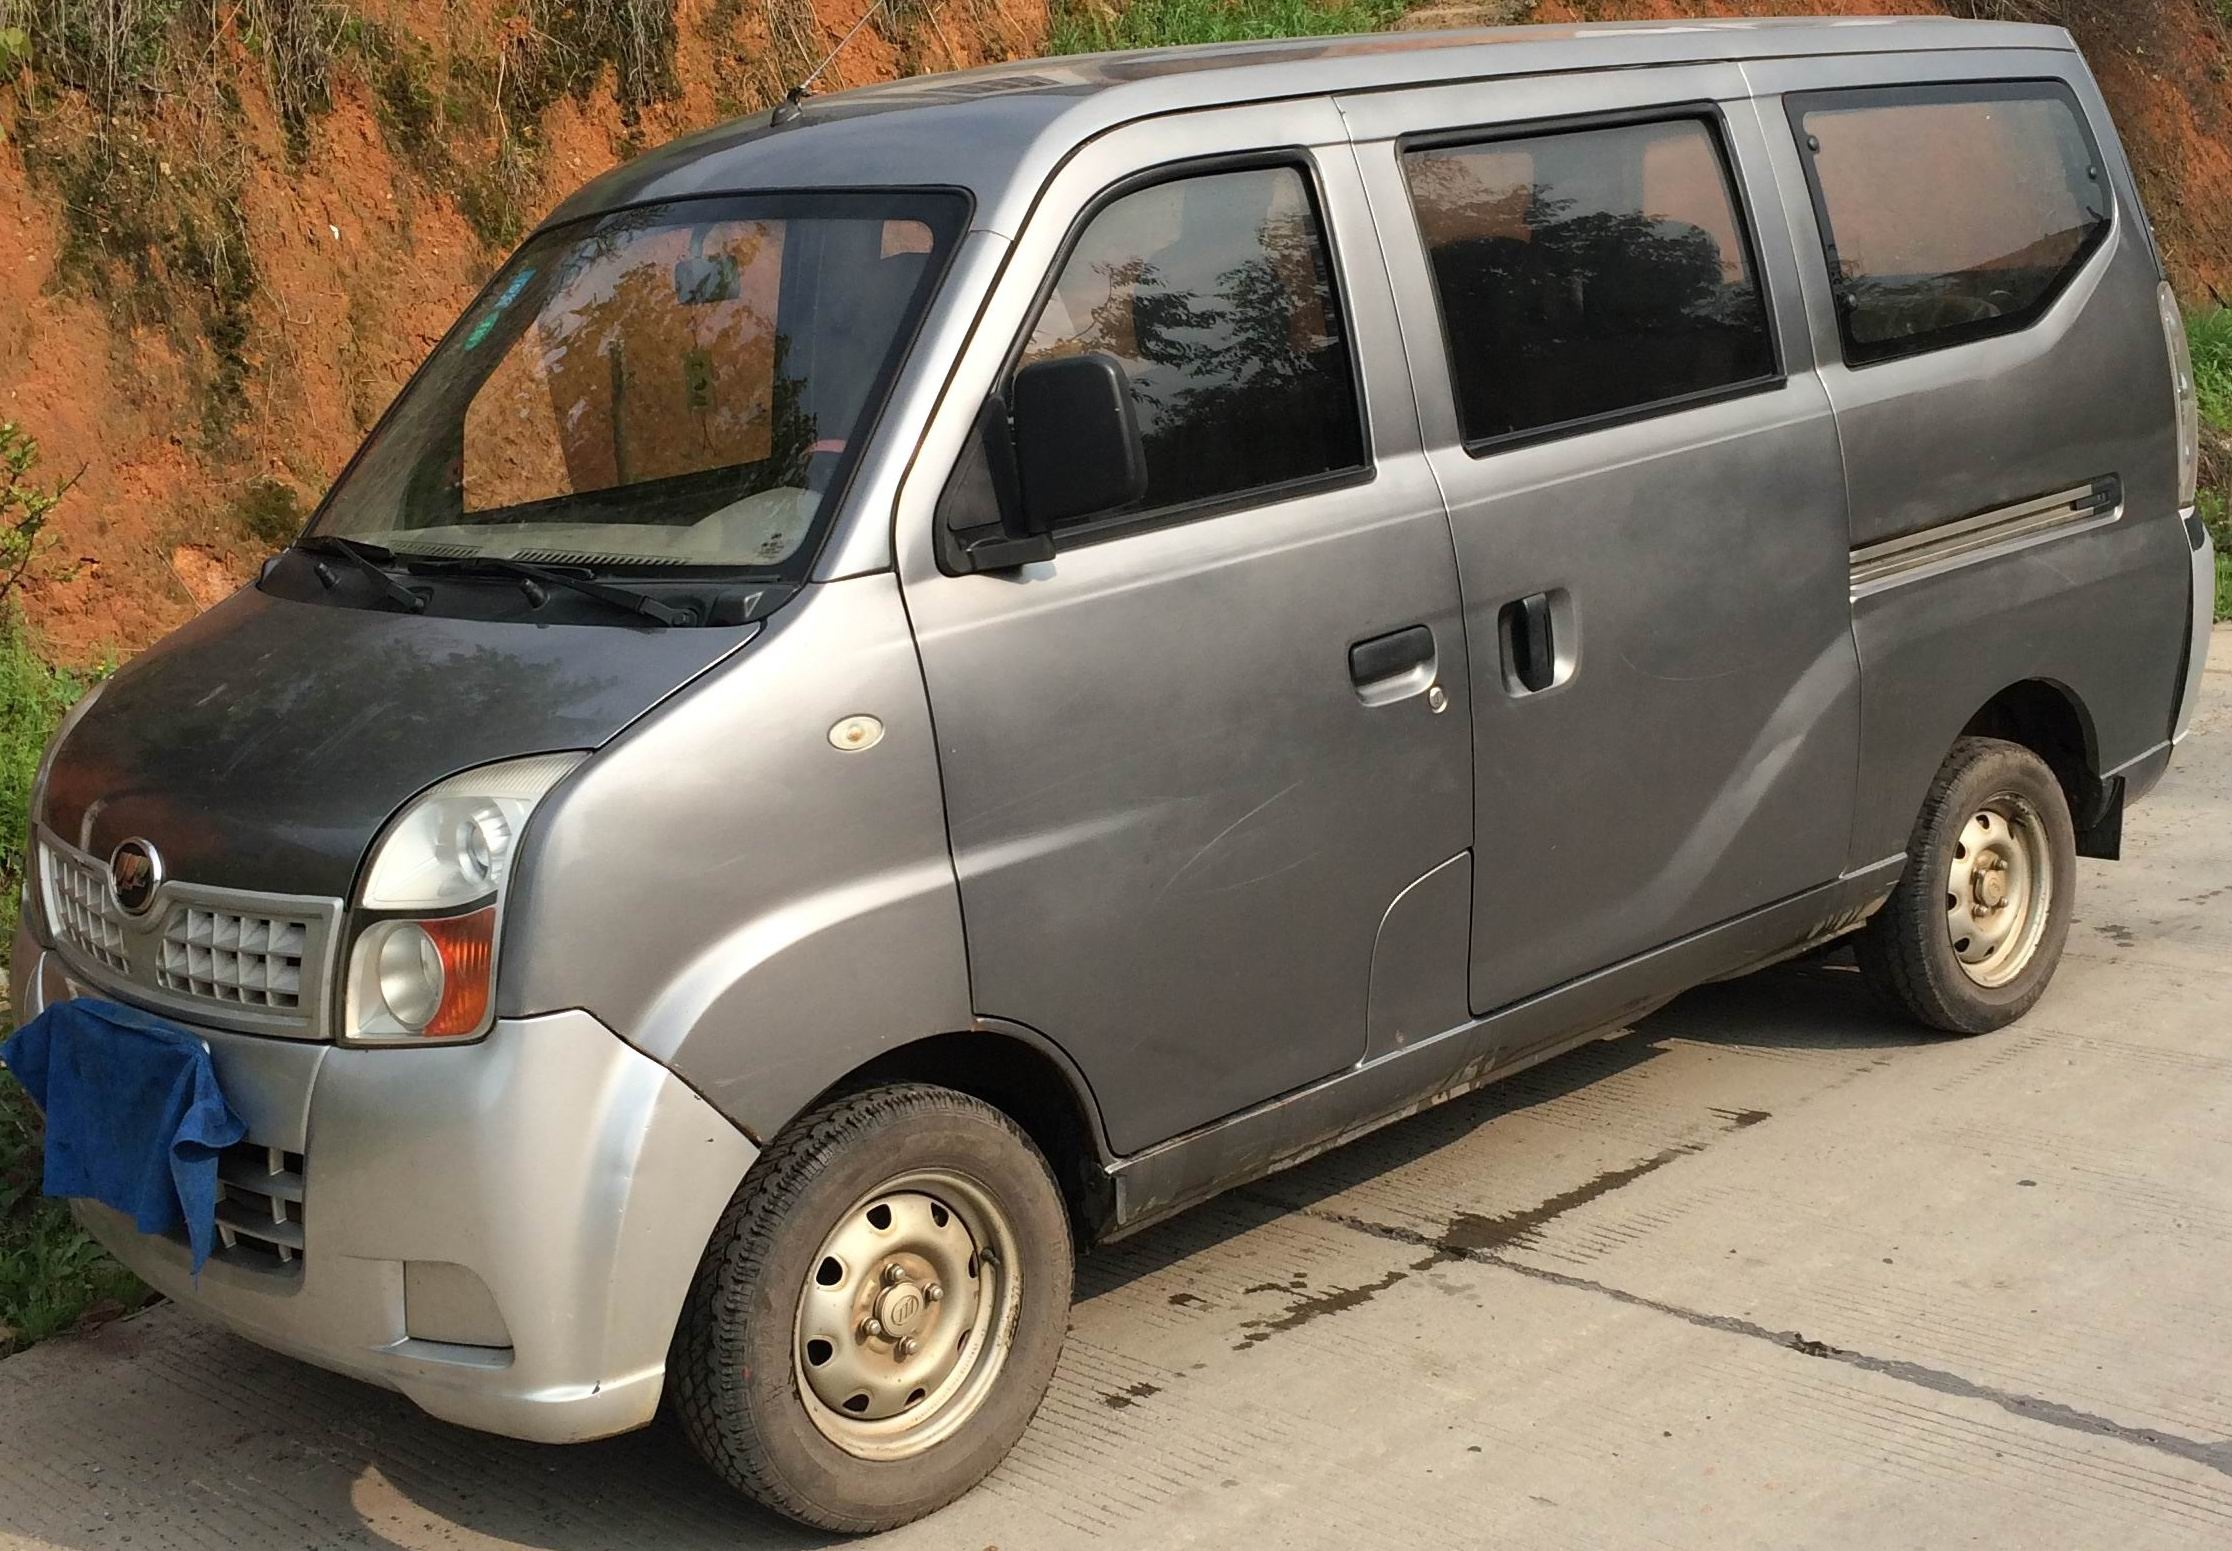minibus: (88, 59, 2168, 1475)
